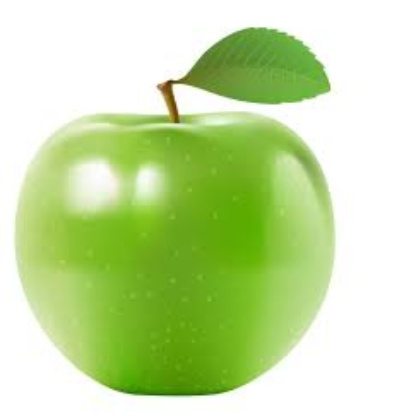tao: (11, 106, 351, 396)
